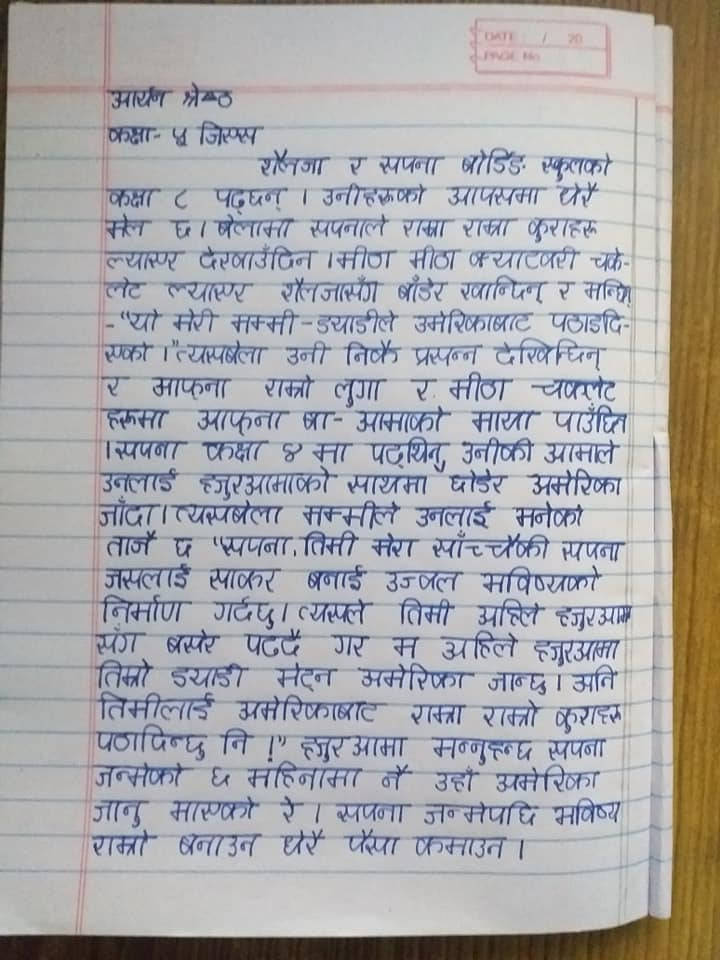text: (196, 464, 341, 499), (236, 693, 389, 726), (93, 722, 209, 762), (95, 690, 219, 724), (431, 529, 551, 564), (478, 565, 605, 596), (494, 338, 608, 372), (245, 760, 365, 792), (299, 496, 401, 533), (412, 306, 540, 335), (296, 731, 408, 764), (171, 500, 288, 531), (196, 243, 320, 272), (526, 465, 625, 500), (430, 734, 537, 766), (358, 662, 474, 691), (90, 758, 195, 790), (422, 800, 545, 827), (495, 764, 601, 795), (468, 243, 581, 272), (276, 275, 383, 305), (97, 593, 191, 627), (412, 829, 510, 861), (441, 628, 522, 666), (194, 404, 288, 436), (458, 272, 548, 305), (176, 337, 270, 368), (414, 498, 496, 533), (321, 180, 427, 207), (165, 795, 260, 825), (175, 829, 264, 861), (159, 276, 254, 305), (366, 435, 451, 467), (531, 636, 621, 666), (102, 562, 195, 591), (527, 374, 619, 403), (553, 403, 632, 436), (352, 408, 448, 435), (443, 183, 546, 208), (553, 699, 626, 734), (193, 116, 270, 149), (306, 212, 392, 241), (98, 467, 184, 496), (539, 149, 612, 183), (511, 500, 586, 533), (212, 593, 277, 631), (259, 148, 333, 181), (458, 436, 539, 466), (345, 471, 431, 499), (543, 435, 618, 467), (206, 564, 281, 596), (208, 186, 290, 215), (547, 306, 626, 336), (526, 213, 599, 245), (297, 596, 372, 627), (315, 307, 398, 335), (170, 664, 250, 693), (86, 827, 156, 860), (458, 146, 529, 178), (212, 214, 296, 241), (152, 371, 233, 399), (105, 81, 173, 114), (552, 604, 634, 631), (383, 567, 462, 595), (551, 796, 621, 827), (333, 799, 410, 827), (409, 338, 483, 367), (476, 597, 543, 629), (179, 77, 240, 112), (100, 247, 185, 272), (447, 371, 513, 403), (392, 596, 456, 629), (241, 626, 303, 660), (111, 436, 191, 462), (98, 405, 174, 432), (97, 496, 158, 529), (480, 696, 541, 729), (221, 529, 288, 559), (560, 535, 627, 565), (230, 308, 299, 337), (445, 467, 511, 497), (277, 659, 333, 694), (298, 527, 361, 557), (406, 699, 469, 729), (340, 340, 405, 369), (468, 407, 540, 433), (377, 152, 446, 179), (88, 798, 150, 828), (329, 374, 387, 406), (96, 657, 154, 689), (304, 564, 366, 593), (336, 244, 400, 272), (198, 439, 272, 463), (105, 182, 164, 212), (342, 829, 405, 857), (483, 670, 550, 695), (277, 340, 334, 369), (369, 531, 422, 562), (94, 625, 145, 657), (545, 737, 607, 763), (261, 373, 320, 400), (163, 629, 223, 655), (395, 274, 448, 303), (168, 307, 221, 336), (103, 531, 159, 558), (106, 121, 158, 150), (403, 245, 460, 271), (583, 277, 633, 306), (569, 665, 617, 695), (280, 827, 326, 858), (398, 215, 454, 240), (461, 215, 517, 240), (102, 340, 156, 365), (215, 725, 257, 757), (103, 274, 148, 303), (103, 214, 152, 240), (557, 179, 601, 207), (433, 766, 477, 793), (308, 440, 353, 465), (331, 631, 371, 657), (590, 246, 626, 273), (128, 307, 165, 333), (298, 407, 333, 433), (391, 631, 422, 660), (208, 760, 236, 791), (376, 765, 408, 791), (408, 374, 436, 403), (101, 371, 130, 397), (165, 217, 195, 242), (346, 152, 372, 180), (166, 124, 193, 150), (279, 438, 305, 465), (169, 533, 195, 560), (276, 795, 300, 824), (172, 184, 193, 212), (555, 278, 575, 302)
